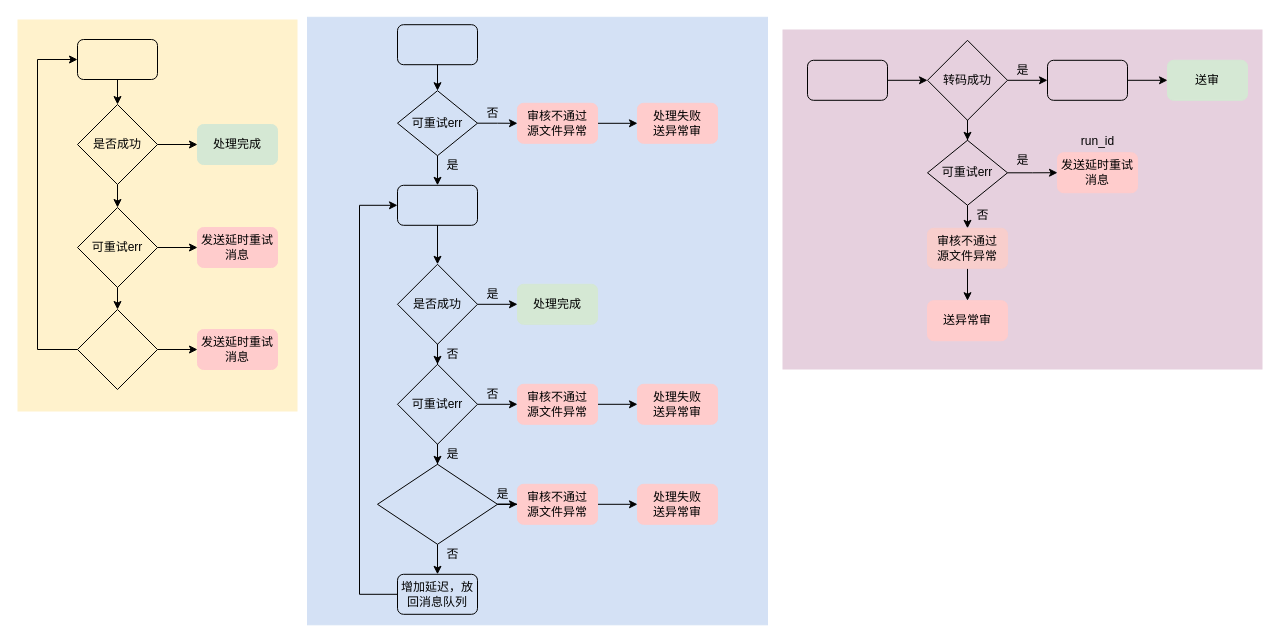
This 1279x643 diagram has some shape labels left out. Here are the shapes that lost their labels. From the top down, the centre of each, then its label:
At point (117, 59): "异步触发转码".
At point (437, 44): "接收延时消息".
At point (847, 79): "转码回调".
At point (1087, 79): "补全content".
At point (437, 204): "脚本重新触发".
At point (117, 349): "最大重试次数".
At point (437, 503): "是否到达重试次数".
